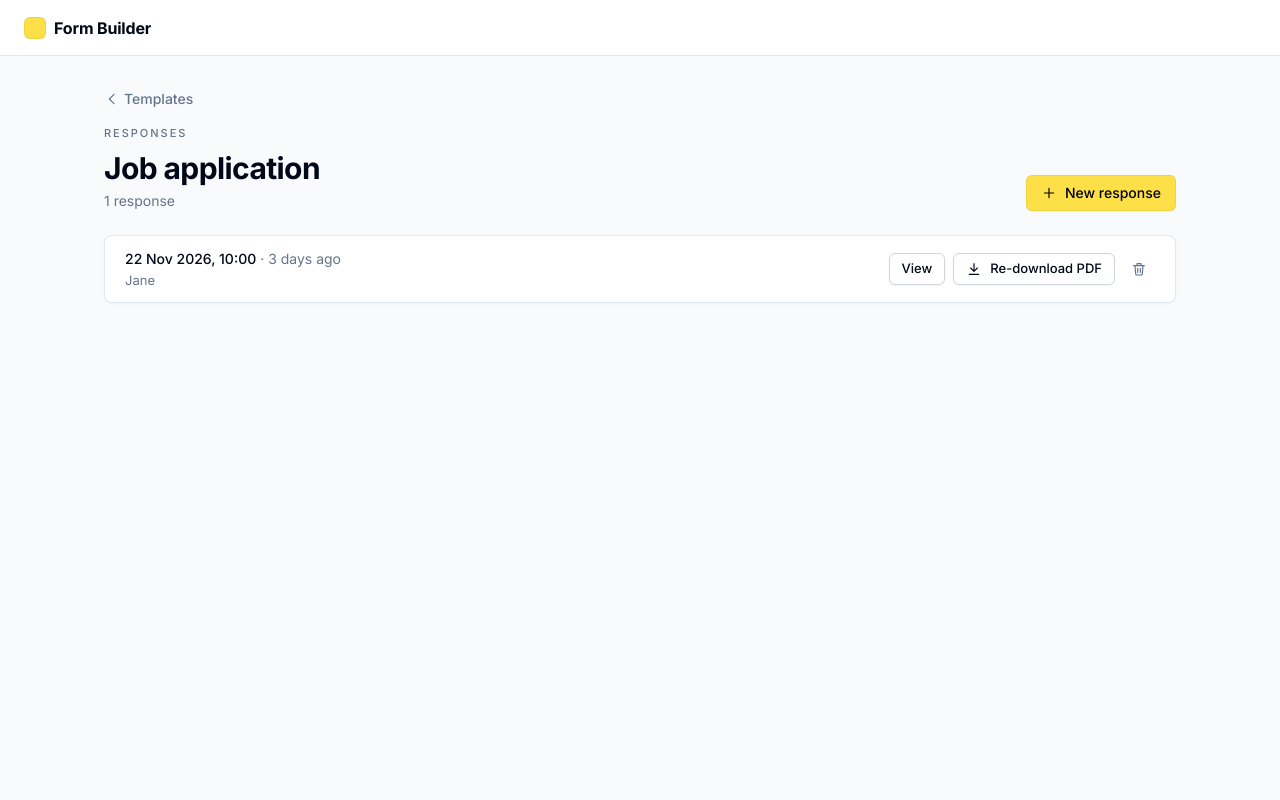
Test: responses list › deleting asks first, then removes the response
Click the button named "Delete response from". click: (1139, 269)
box: [1123, 253, 1155, 285]
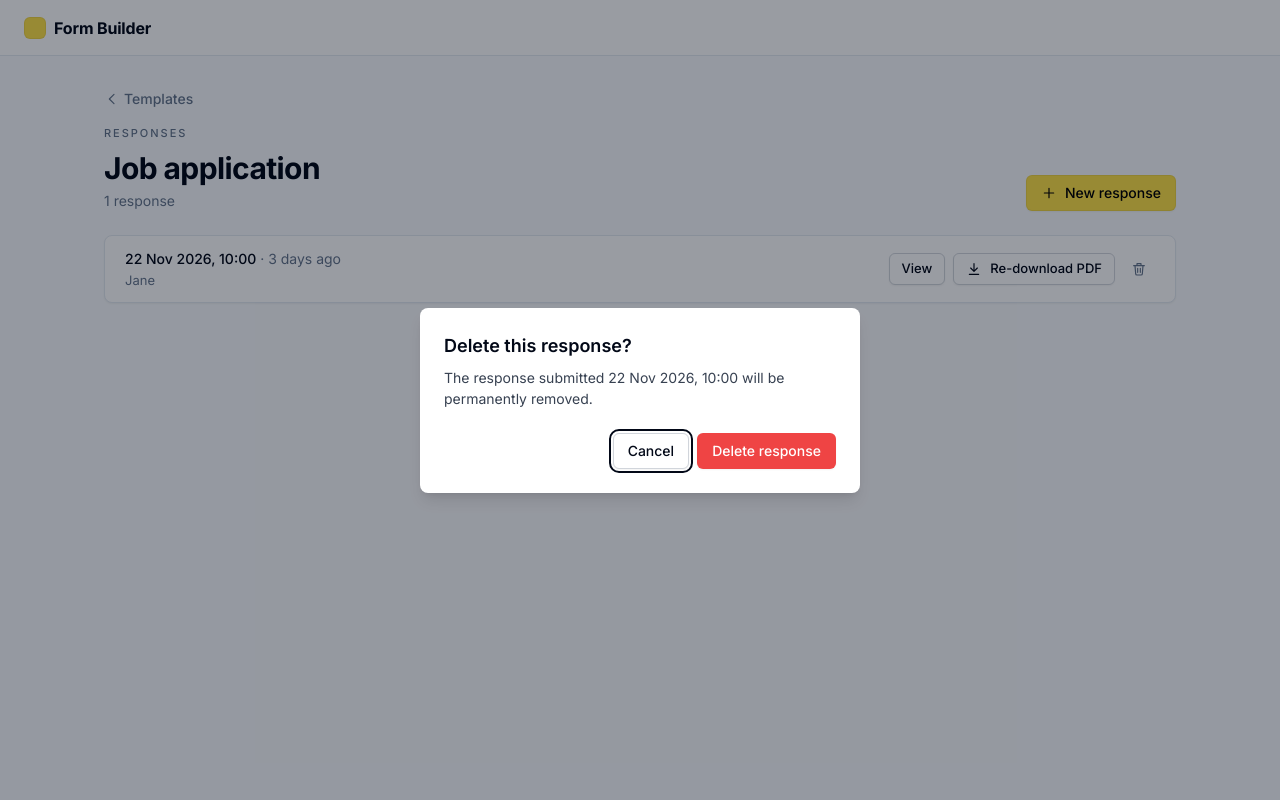
Click the button "Delete response". click: (767, 450)
box: [697, 432, 836, 468]
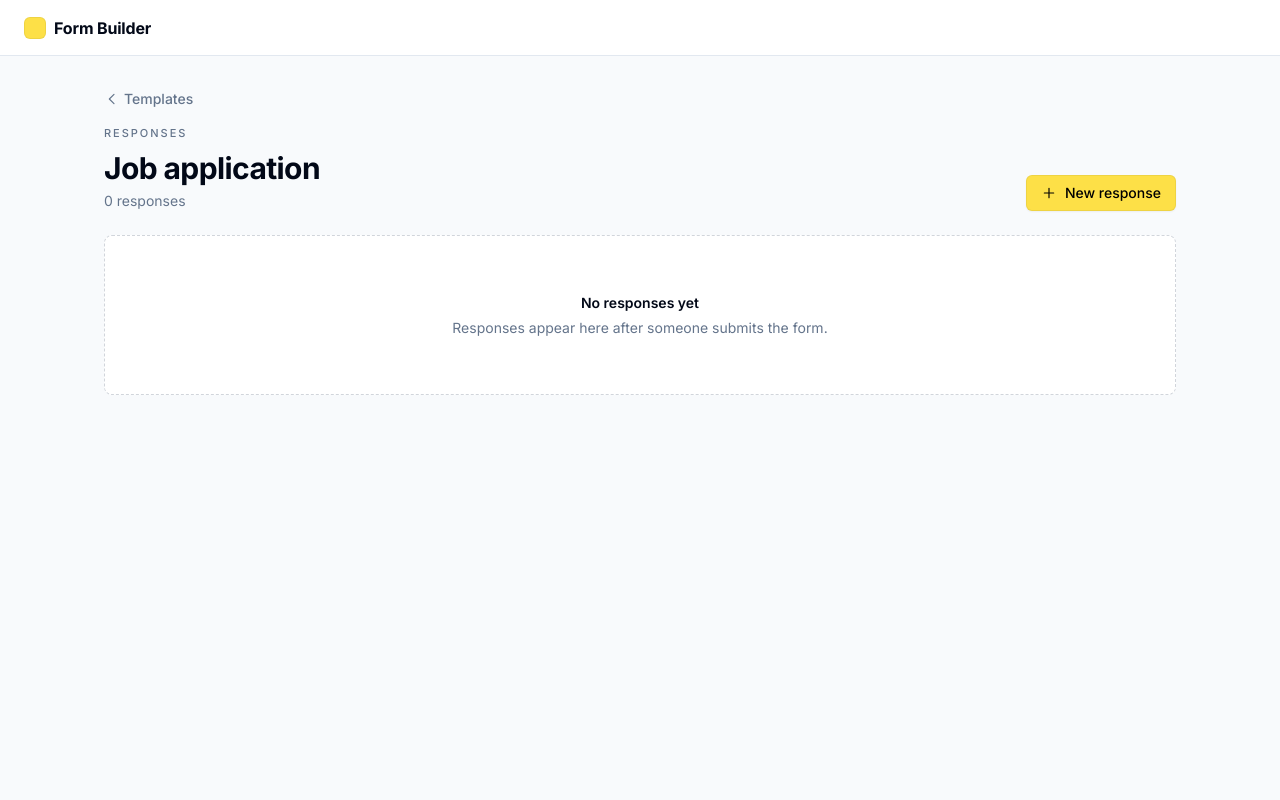
Expected: the text "No responses yet" is shown, [581, 292, 699, 312]
